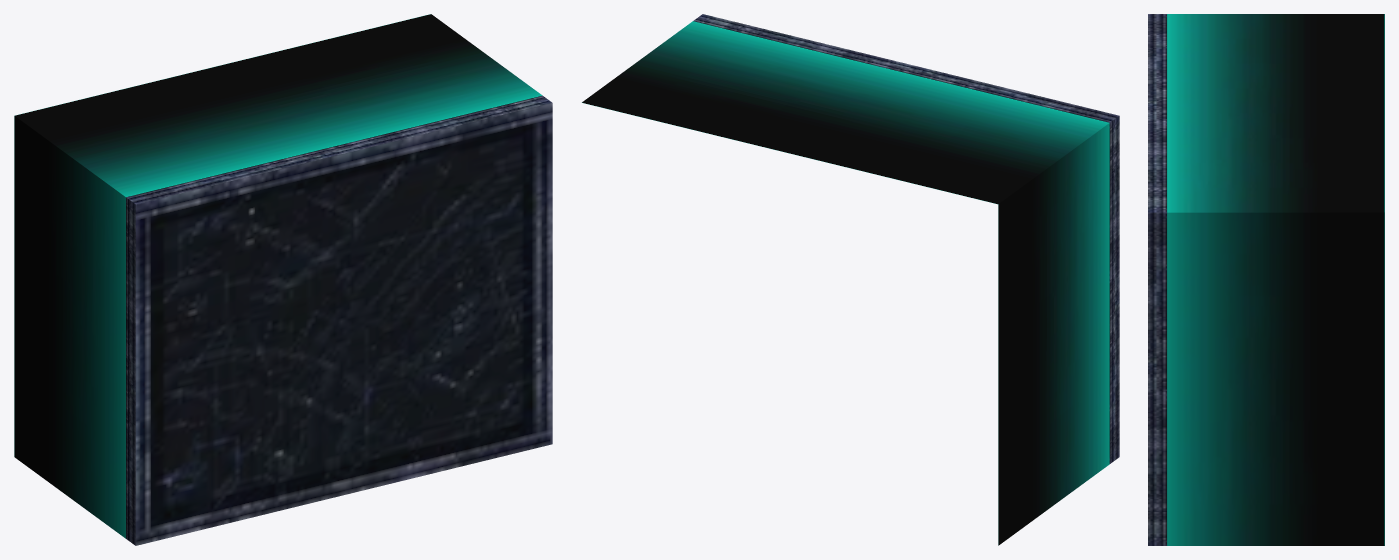
3 views of the same model, side by side, from view 1: azimuth 30°, elevation 25°; view 2: azimuth 150°, elevation 25°; view 3: azimuth 270°, elevation 25° (orthographic). The views are drawn at different scales.
Parts seen in each view (by area): view 1: model_Object65; view 2: model_Object65; view 3: model_Object65.
Boxes of the visible parts, box(x1,y1,x2,y2) form: model_Object65: box(14, 14, 552, 545); model_Object65: box(582, 14, 1119, 545); model_Object65: box(1148, 14, 1384, 545).
Size of the model in its own units: 2.27 by 1.78 by 1.14.
Materials: 3 (3 with a texture image).
